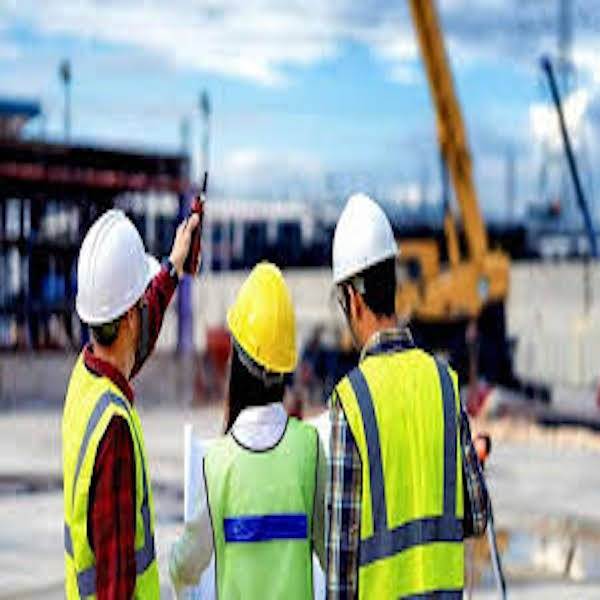helmet: (80, 208, 157, 322), (238, 264, 300, 373), (331, 194, 404, 279)
vest: (360, 348, 471, 591), (60, 359, 159, 600), (209, 423, 319, 595)
